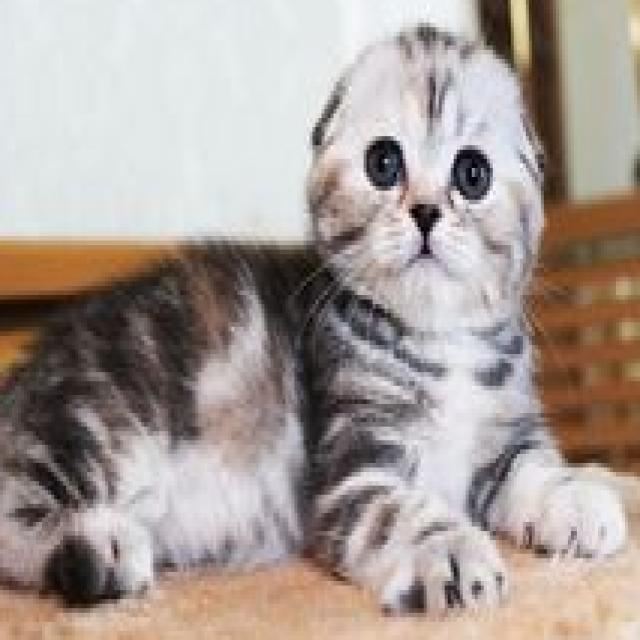Scottish Fold: (0, 14, 628, 622)
